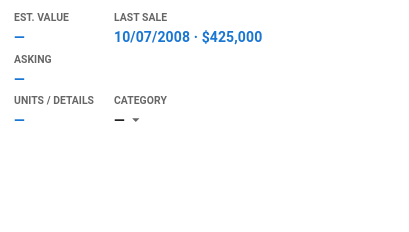
PropertyOverviewQuickStats › seeds the sale editor price from sale_history fallback
This screenshot has width=409, height=232.
Click the button with test id "quick-stat-last-sale-edit-trigger": (188, 37) x1=114 y1=28 x2=262 y2=46
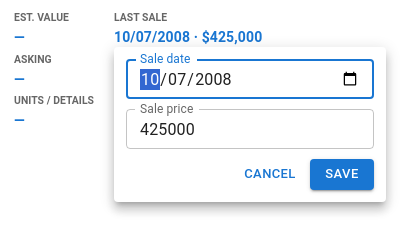
Result: the field with test id "quick-stat-last-sale-price-input" holds "425000" at x1=126 y1=109 x2=374 y2=149
